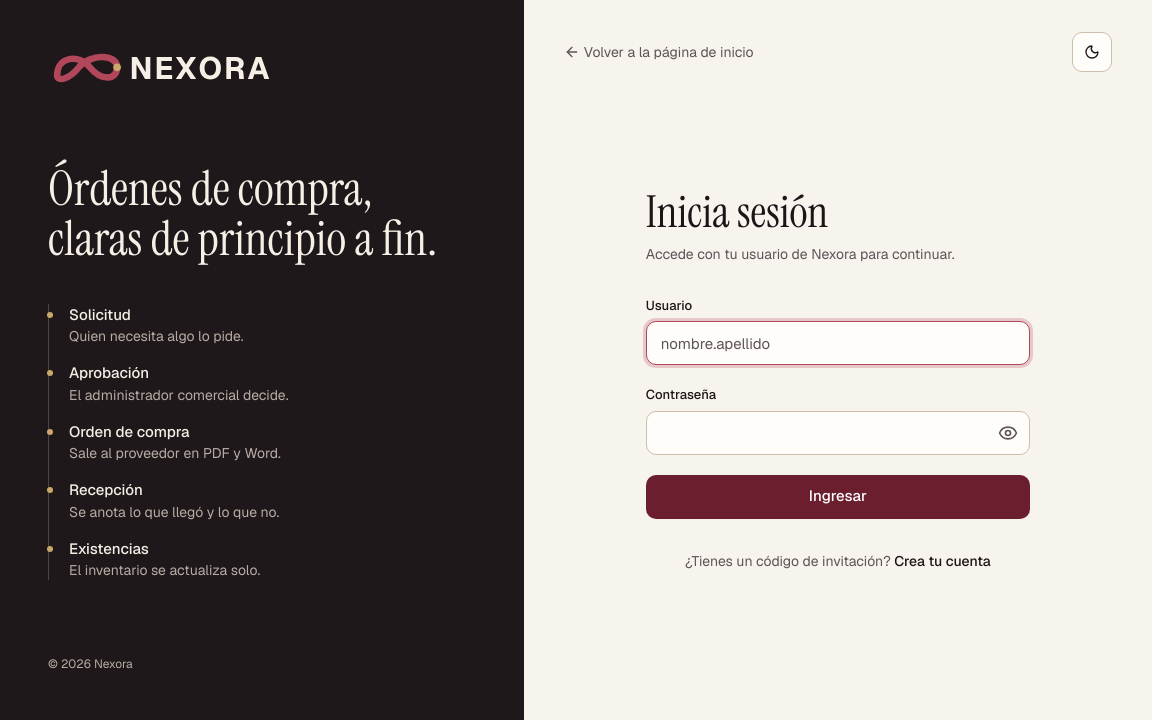
Test: Login: límite de intentos › muestra el mensaje del 429 y deja el formulario usable
Type "ana.ruiz" into the field labelled "Usuario". click: (838, 343)
box: x1=646 y1=321 x2=1030 y2=365
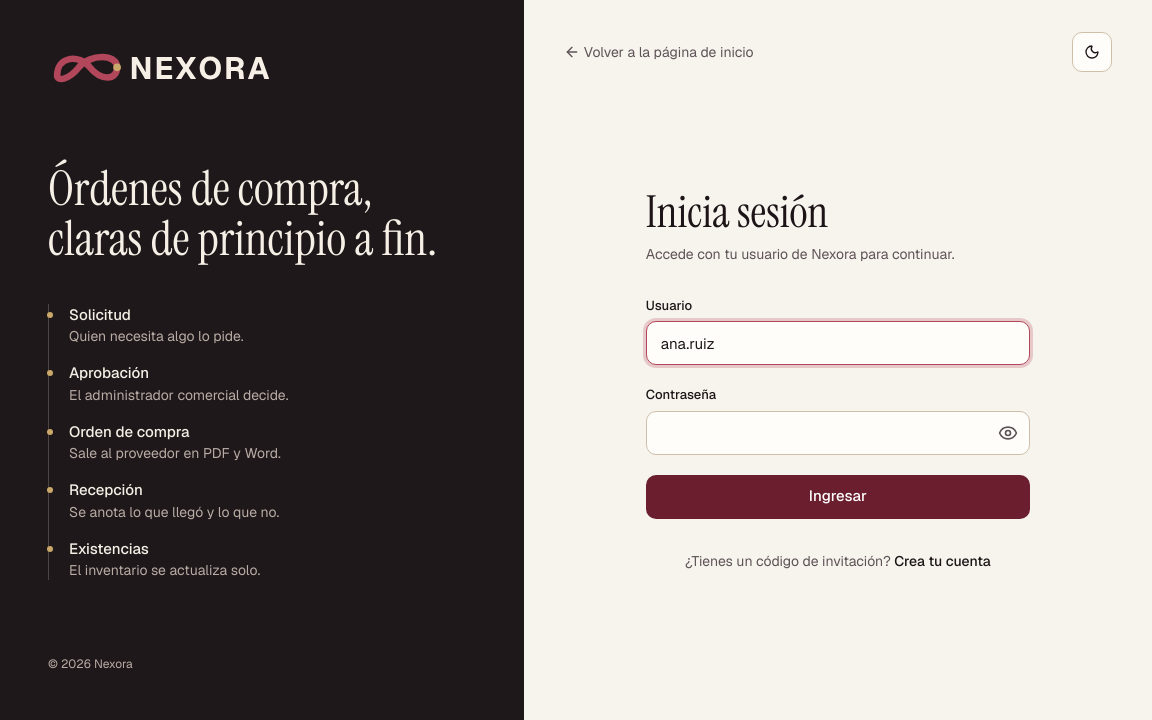
Type "ClaveSegura2026" into the password field labelled "Contraseña". click: (838, 433)
box: x1=646 y1=411 x2=1030 y2=455
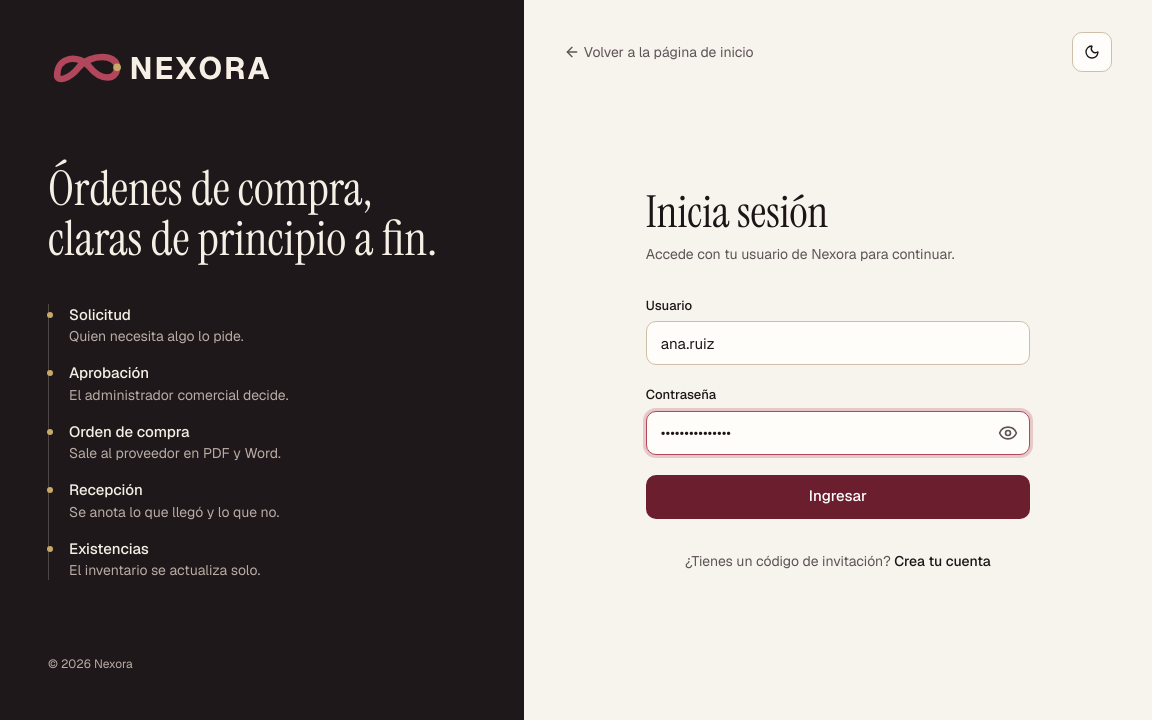
Click the button "Ingresar". click: click(838, 497)
box: x1=646 y1=475 x2=1030 y2=519
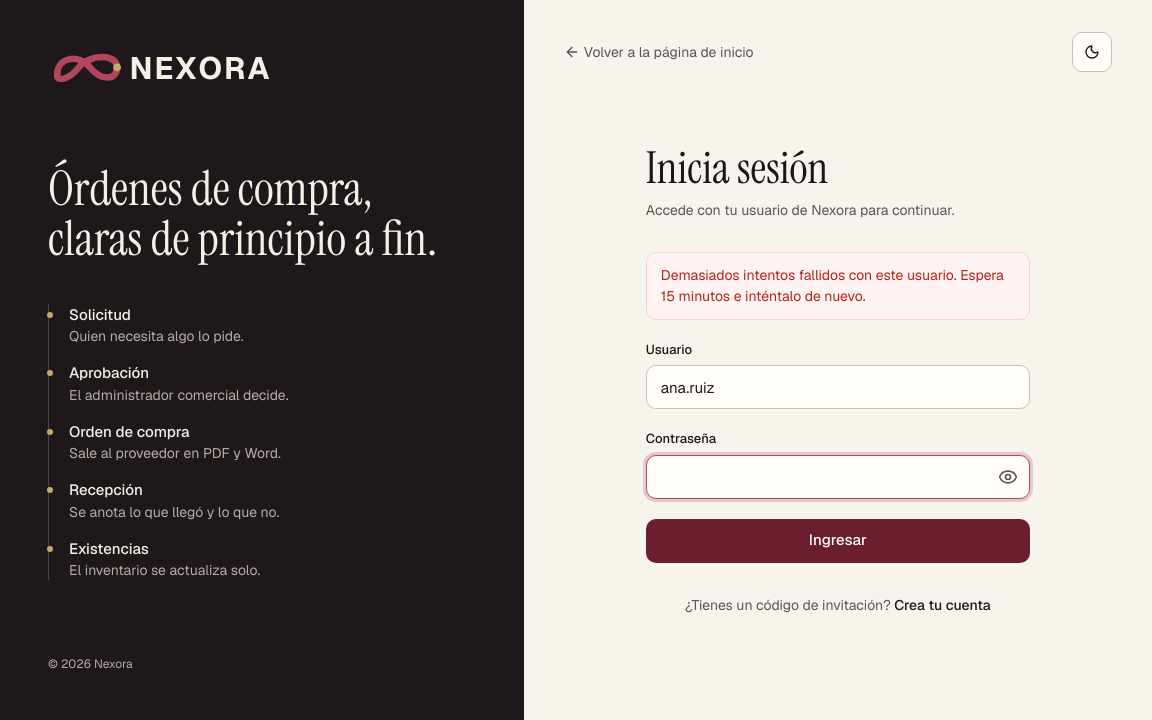
Expected: the button "Ingresar" is enabled, x1=646 y1=519 x2=1030 y2=563
Result: the message shows "Demasiados intentos fallidos con este usuario. Espera 15 minutos e inténtalo de nuevo." at x1=661 y1=266 x2=1004 y2=305
Result: the password field labelled "Contraseña" is empty at x1=646 y1=455 x2=1030 y2=499
